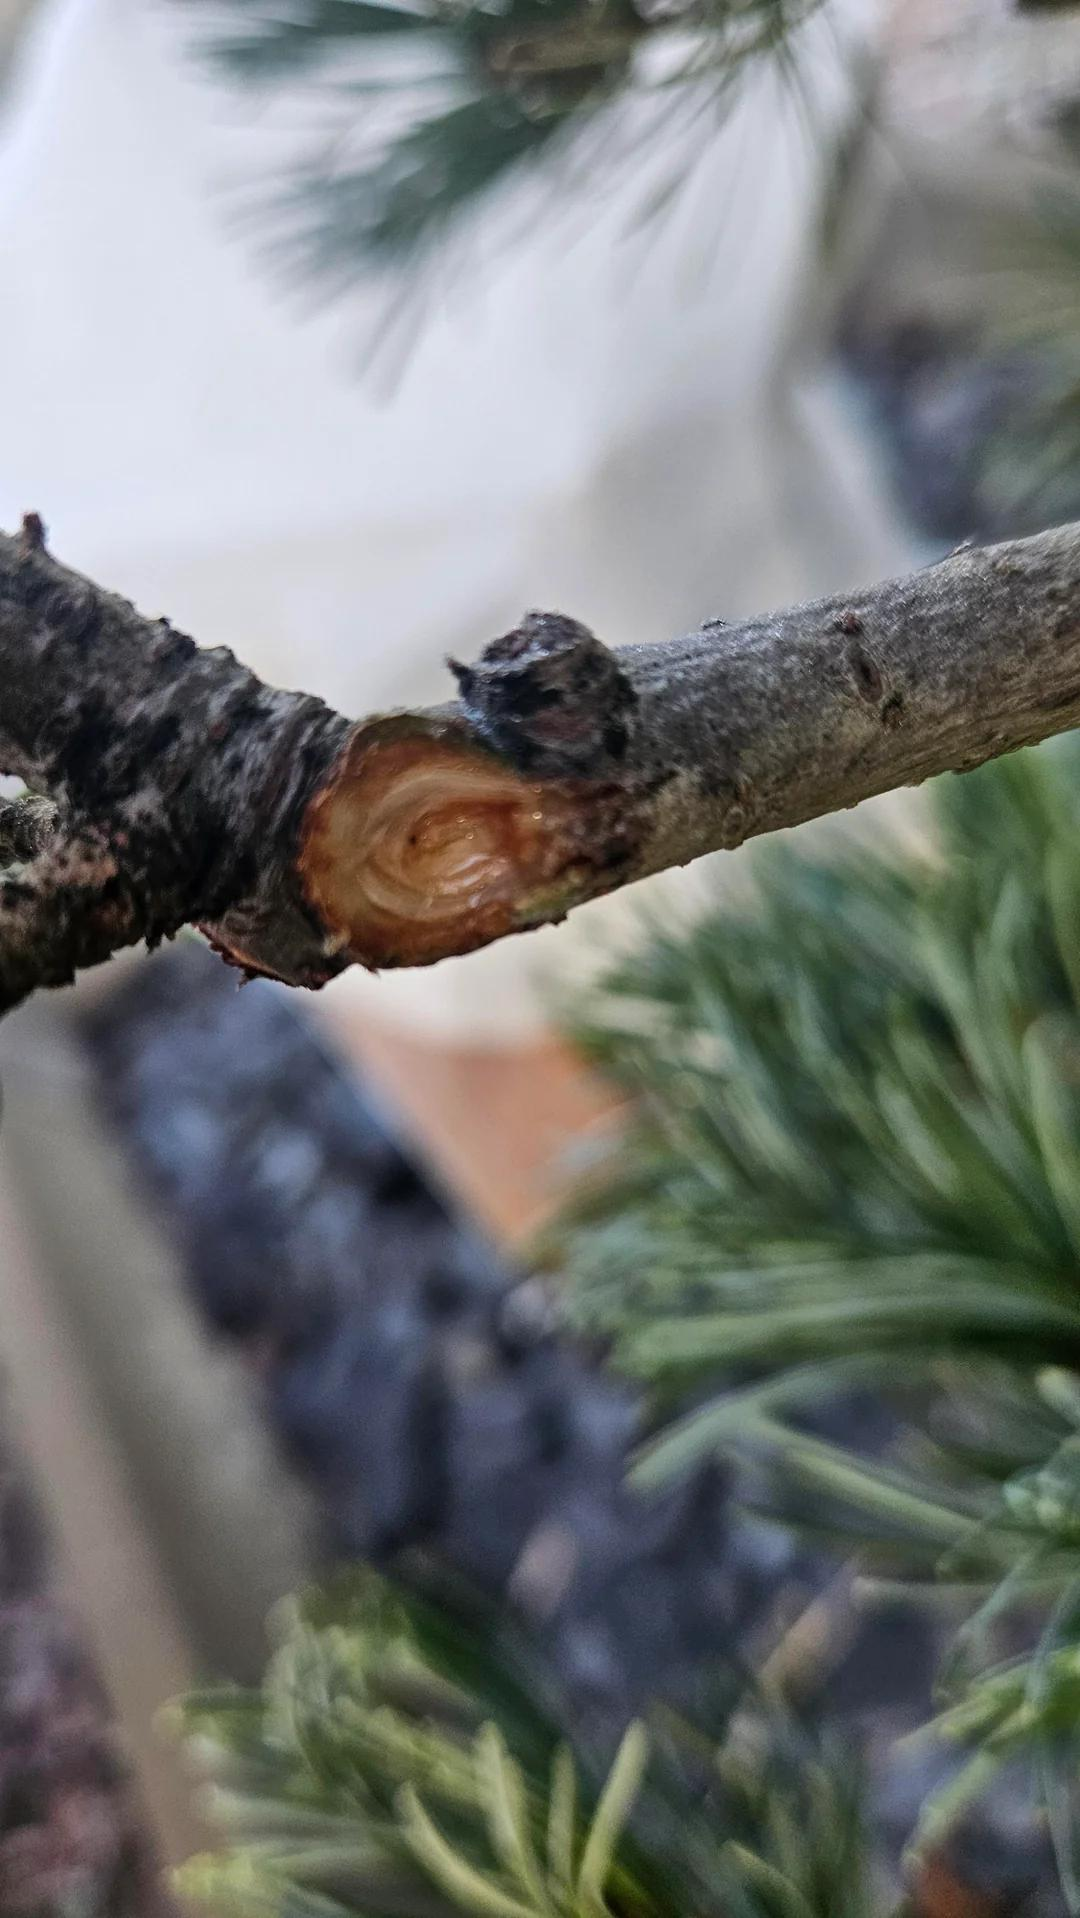mechanical damage: (302, 731, 626, 968)
